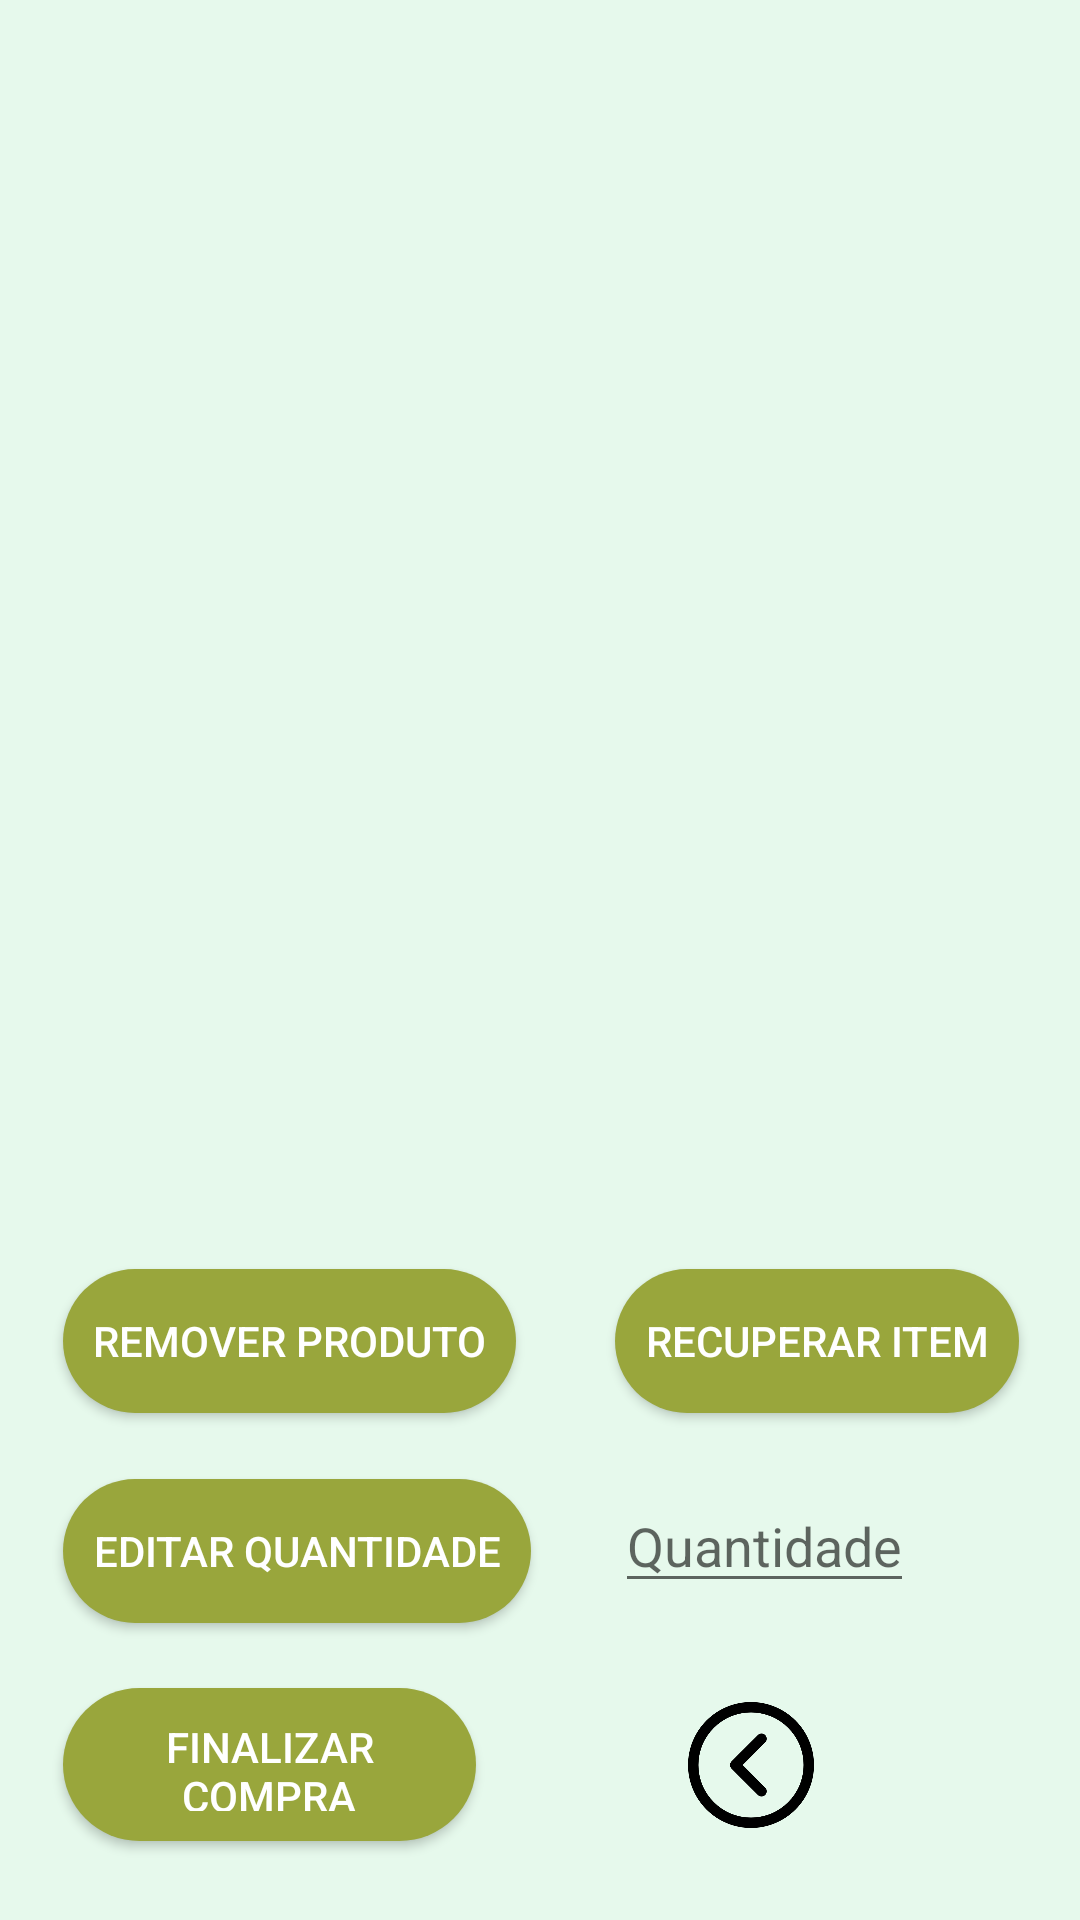

Icon bounding boxes for this 1080 x 1920 phone screenshot, format detection(x1, y1, x2, y2):
voltar: detection(688, 1702, 814, 1828)
